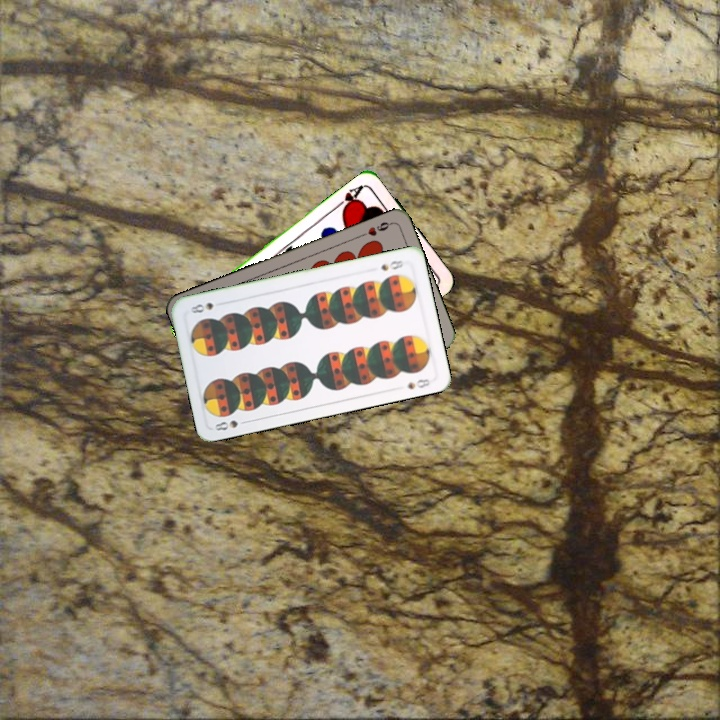H9: (356, 218, 394, 240)
HA: (332, 181, 367, 215)
S8: (210, 416, 251, 433), (376, 256, 408, 273)
